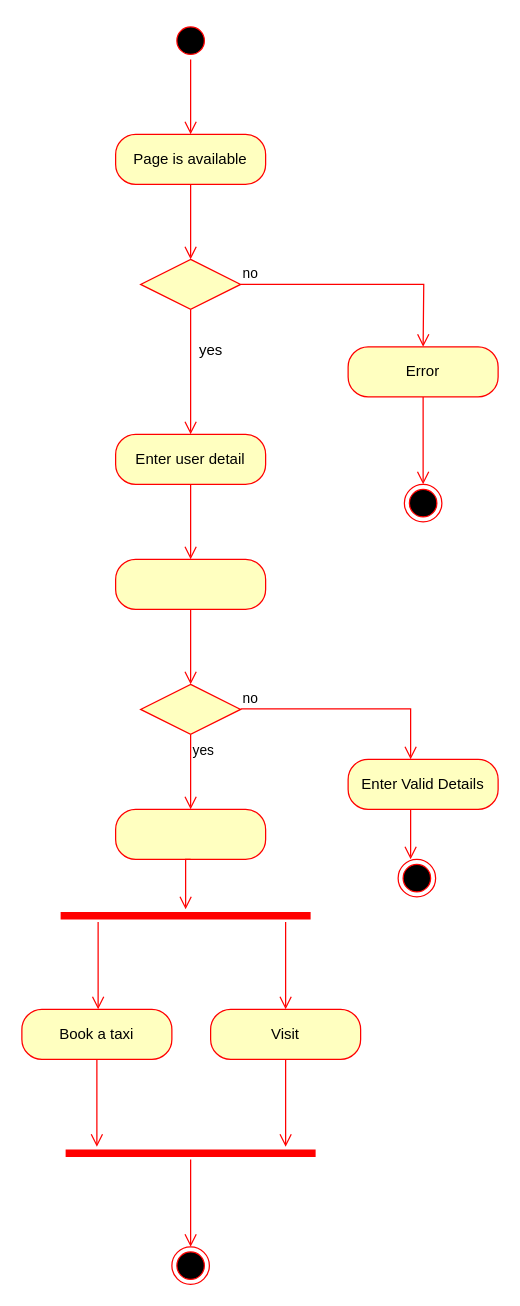
The diagram is 520 pixels wide and 1306 high, and some of its shapes have lost their labels. The shapes that lost their labels are listed below. From the top down, each one's centre as x and y in pixels, then its label:
At point 190,583: "Is User detail is right or not".
At point 190,833: "Go to website".
